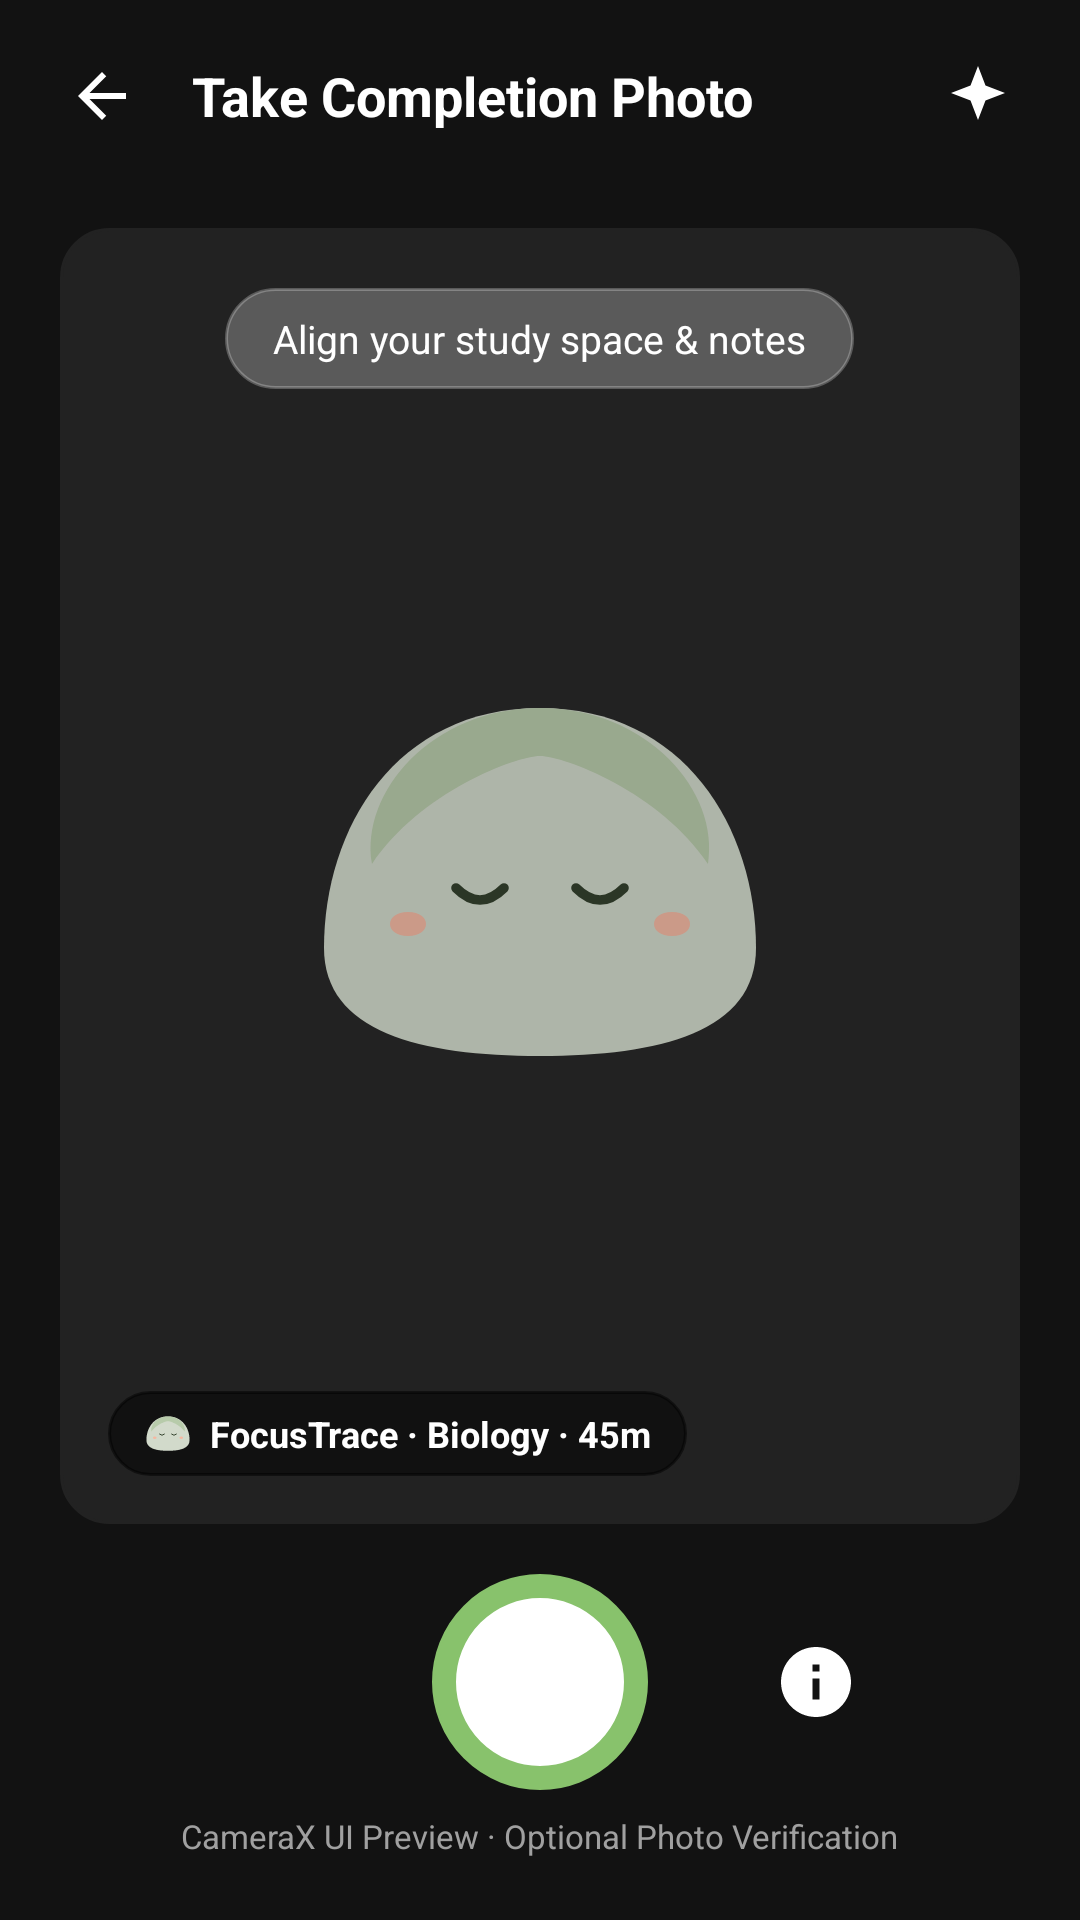

Point at icon controls on the screen. Image size 1080px×1920px, points as [x,y].
Stamp Icon: [168,1433]
